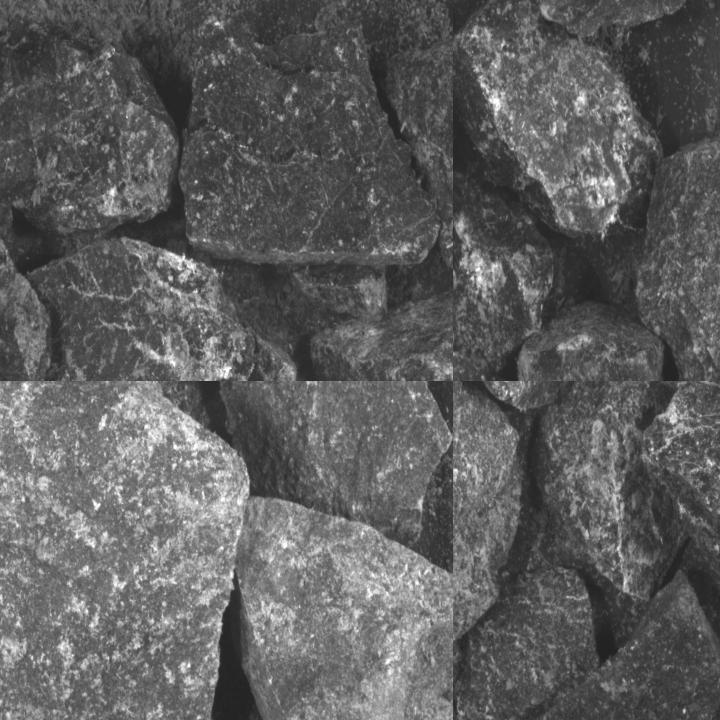stone: (0, 381, 252, 719), (180, 26, 440, 262), (453, 0, 662, 261), (236, 494, 452, 719), (218, 381, 452, 544), (470, 570, 719, 719), (10, 237, 248, 380), (529, 381, 685, 598), (0, 52, 179, 237), (454, 568, 598, 719), (453, 171, 559, 373), (636, 123, 719, 380), (380, 40, 452, 305), (453, 381, 519, 657), (643, 381, 719, 606), (516, 298, 679, 380), (513, 0, 718, 38), (0, 216, 46, 380), (284, 264, 385, 321)
